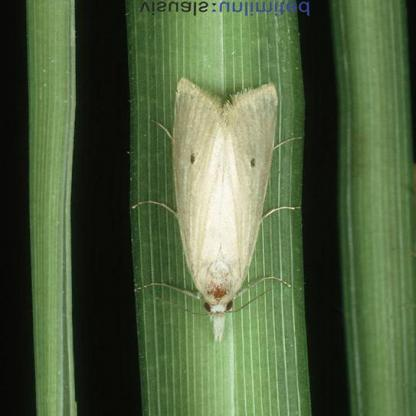stem-borer: (150, 75, 284, 349)
